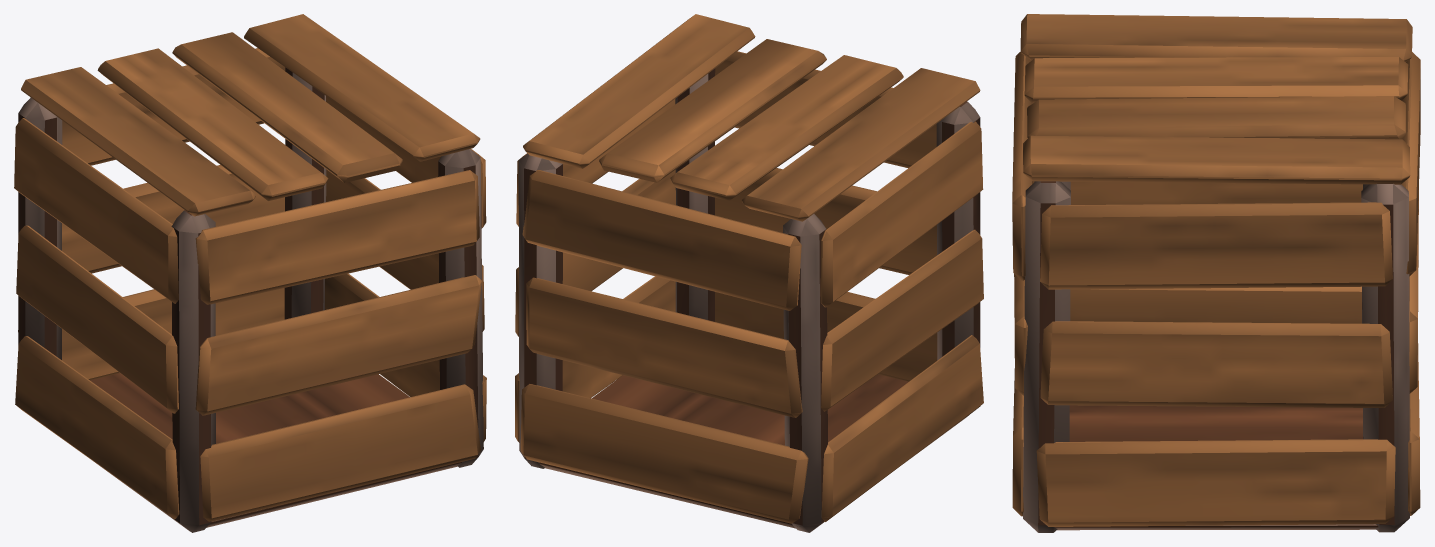
The model's file is SM_Crate.obj.
3 views of the same model, side by side, from view 1: azimuth 30°, elevation 25°; view 2: azimuth 150°, elevation 25°; view 3: azimuth 270°, elevation 25° (orthographic). The views are drawn at different scales.
Parts seen in each view (by area): view 1: SM_Crate; view 2: SM_Crate; view 3: SM_Crate.
Part boxes in pixels (<box>): SM_Crate: <box>14,14,486,532</box>; SM_Crate: <box>515,14,983,532</box>; SM_Crate: <box>1012,14,1420,532</box>.
Bounding box in the file's own units: 0.5292 × 0.5278 × 0.5306.
Materials: 1 (1 with a texture image).
